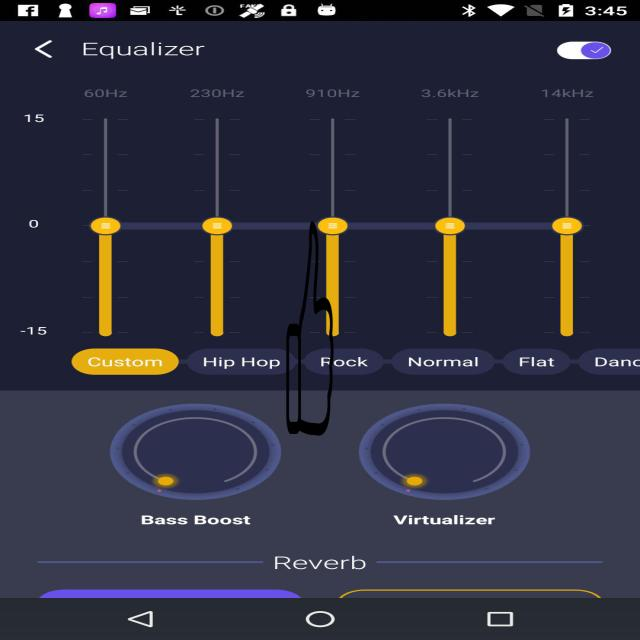privacy zuckering: (286, 221, 334, 436)
